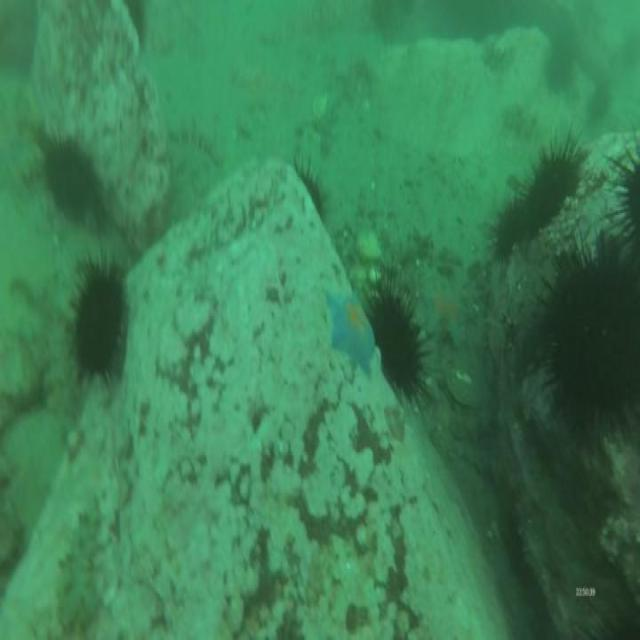echinus: (539, 235, 640, 437), (364, 262, 434, 414), (64, 250, 132, 392), (38, 128, 102, 231), (529, 124, 586, 216), (484, 185, 548, 262), (602, 126, 640, 238), (290, 153, 332, 224), (539, 41, 577, 100)
holothurian: (165, 119, 226, 177), (499, 100, 545, 147), (479, 35, 518, 76)
scallop: (442, 362, 482, 412)
starfish: (318, 283, 377, 378), (419, 276, 470, 351)
